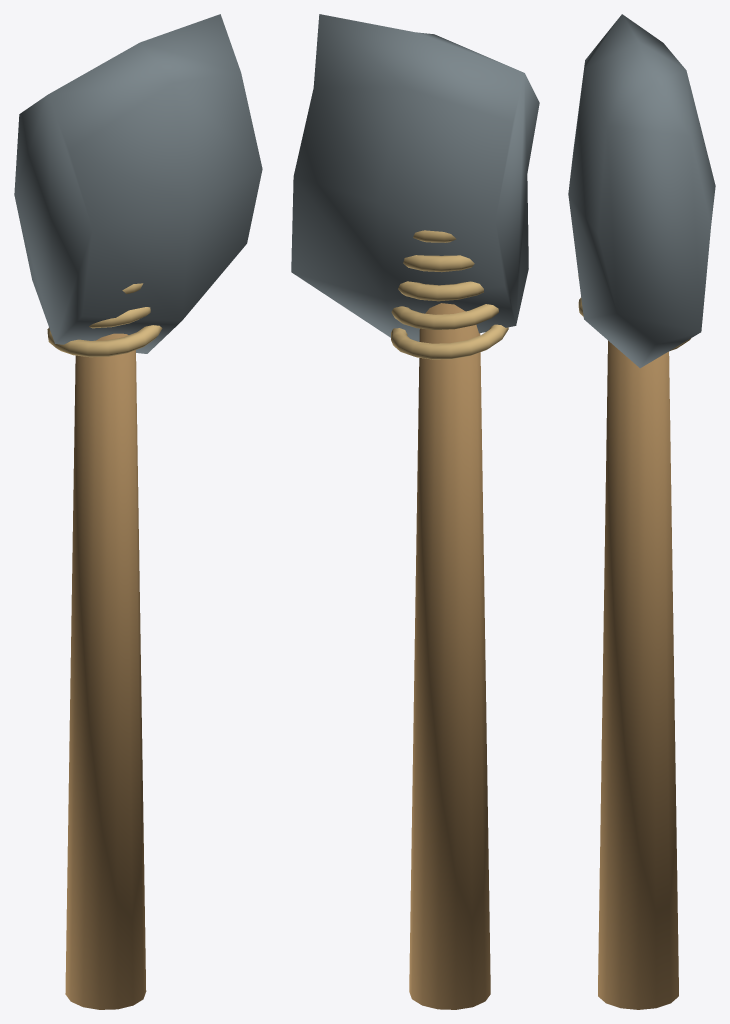
File: axe.glb
3 views of the same model, side by side, from view 1: azimuth 30°, elevation 25°; view 2: azimuth 150°, elevation 25°; view 3: azimuth 270°, elevation 25° (orthographic). The views are drawn at different scales.
Parts seen in each view (by area): view 1: axe_head, axe_haft, axe_lashing; view 2: axe_head, axe_haft, axe_lashing; view 3: axe_haft, axe_head.
Boxes of the visible parts, bbox=[...] form: axe_head: bbox=[14, 14, 262, 353]; axe_haft: bbox=[65, 333, 146, 1009]; axe_lashing: bbox=[47, 283, 162, 357]; axe_head: bbox=[291, 14, 539, 341]; axe_haft: bbox=[409, 303, 490, 1009]; axe_lashing: bbox=[391, 230, 508, 359]; axe_haft: bbox=[598, 340, 678, 1009]; axe_head: bbox=[568, 14, 715, 368].
Size of the model in its own units: 0.2295 by 0.978 by 0.1347.
